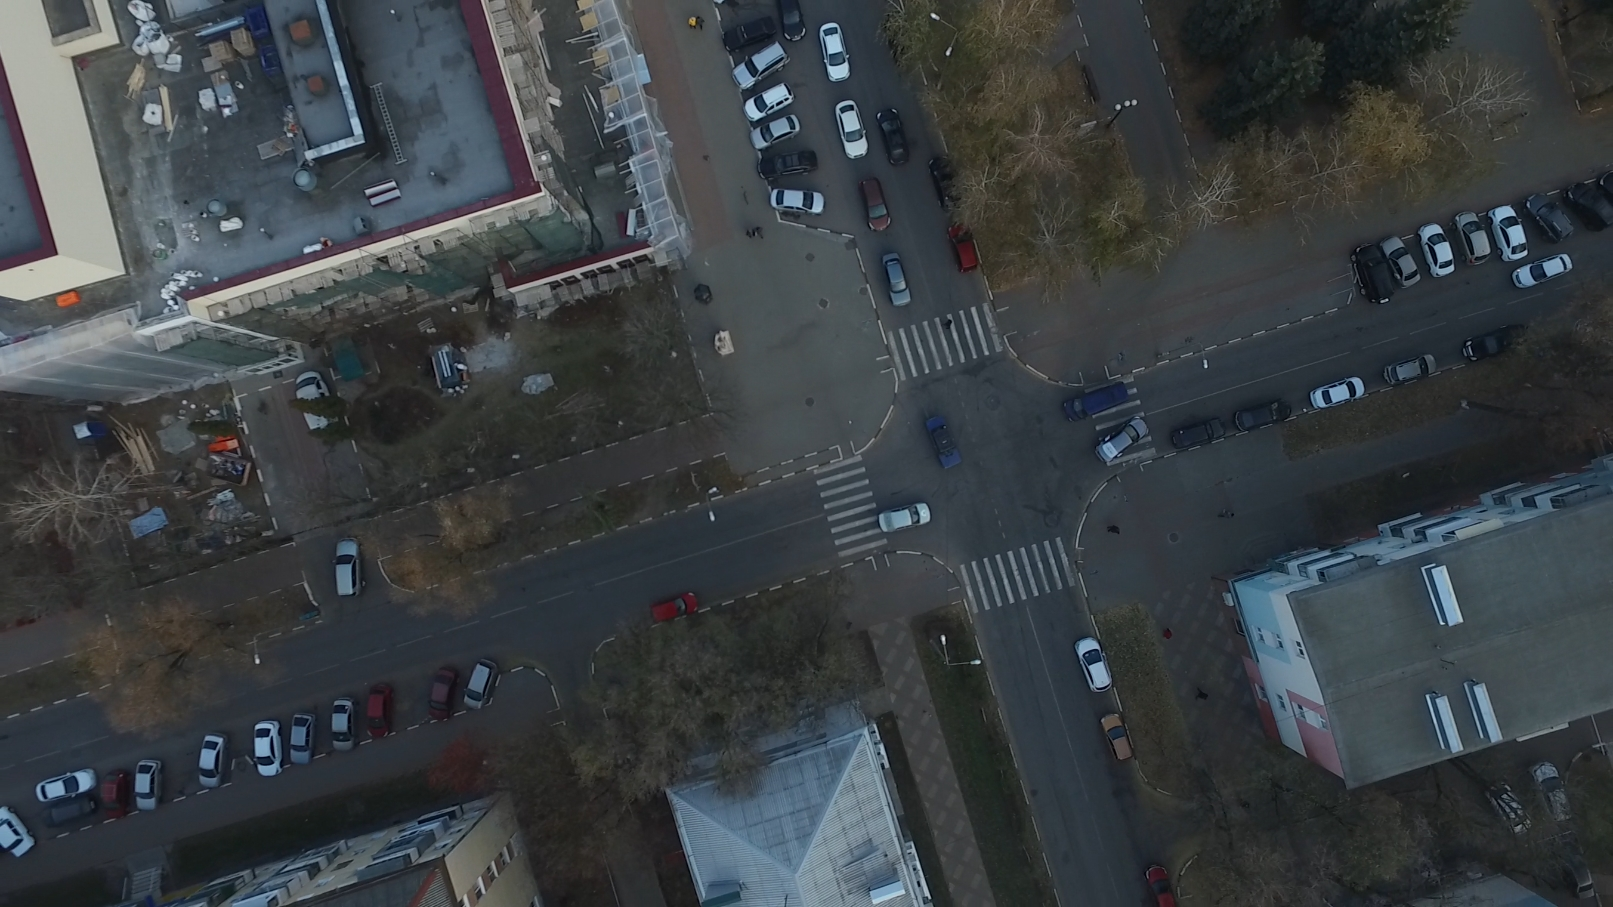car: (1522, 762, 1571, 833), (730, 41, 789, 92), (1093, 415, 1149, 466), (1352, 241, 1396, 305), (1522, 194, 1575, 246), (1481, 782, 1528, 837), (1072, 638, 1112, 701), (1064, 382, 1131, 419), (326, 539, 364, 602), (1453, 210, 1494, 269), (1465, 324, 1532, 360), (767, 179, 824, 220), (1566, 181, 1613, 230), (456, 659, 499, 712), (1511, 254, 1572, 290), (1, 806, 42, 859), (1381, 231, 1420, 287), (758, 146, 820, 181), (928, 155, 967, 209), (35, 767, 99, 801), (424, 664, 462, 720), (1169, 414, 1225, 451), (925, 414, 964, 467), (126, 761, 164, 814), (722, 16, 775, 53), (253, 714, 285, 776), (818, 20, 850, 82), (1305, 378, 1365, 411), (836, 101, 870, 161), (195, 732, 232, 786), (1490, 205, 1524, 262), (359, 686, 394, 741), (1419, 221, 1453, 278), (741, 85, 795, 120), (93, 767, 130, 818), (281, 712, 317, 764), (1140, 865, 1183, 907), (859, 178, 891, 235), (877, 109, 910, 164), (750, 117, 805, 150), (876, 502, 929, 535), (945, 220, 978, 274), (328, 697, 359, 752), (1236, 400, 1292, 431), (882, 251, 912, 308), (647, 592, 700, 623), (1383, 355, 1438, 383), (1101, 713, 1131, 762), (778, 1, 806, 43)
